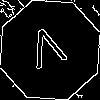V: (25, 25, 71, 79)
